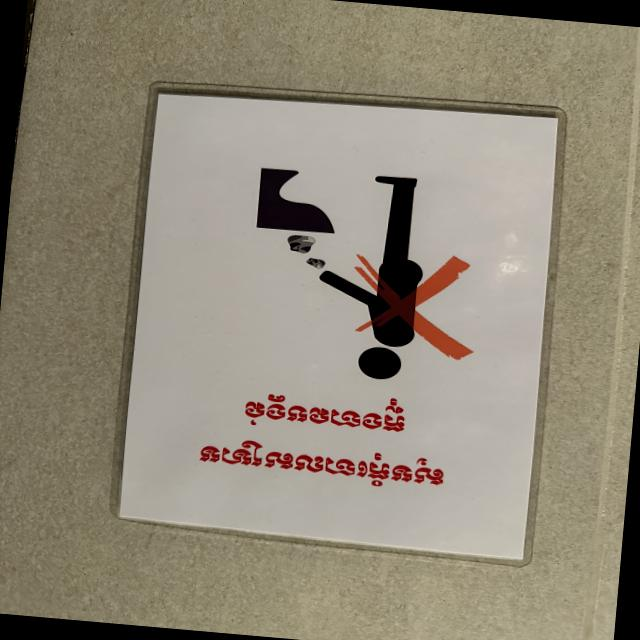Yolov11_80vkh: (192, 432, 455, 496), (226, 382, 423, 446)
